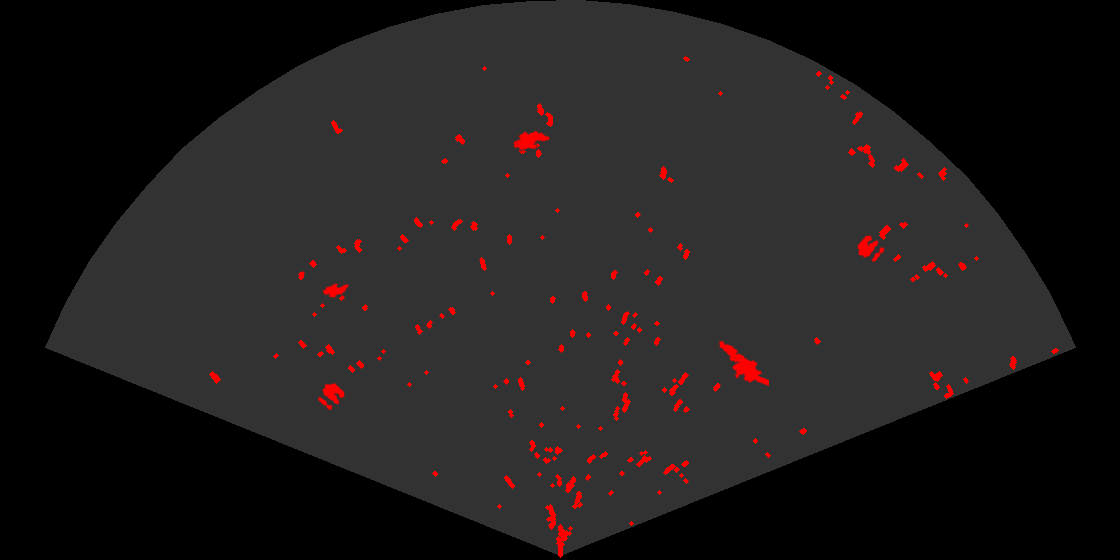AUV: (512, 129, 552, 152), (321, 281, 351, 303)
ball: (316, 381, 346, 412), (856, 234, 886, 263)
frogman: (717, 339, 769, 388)
